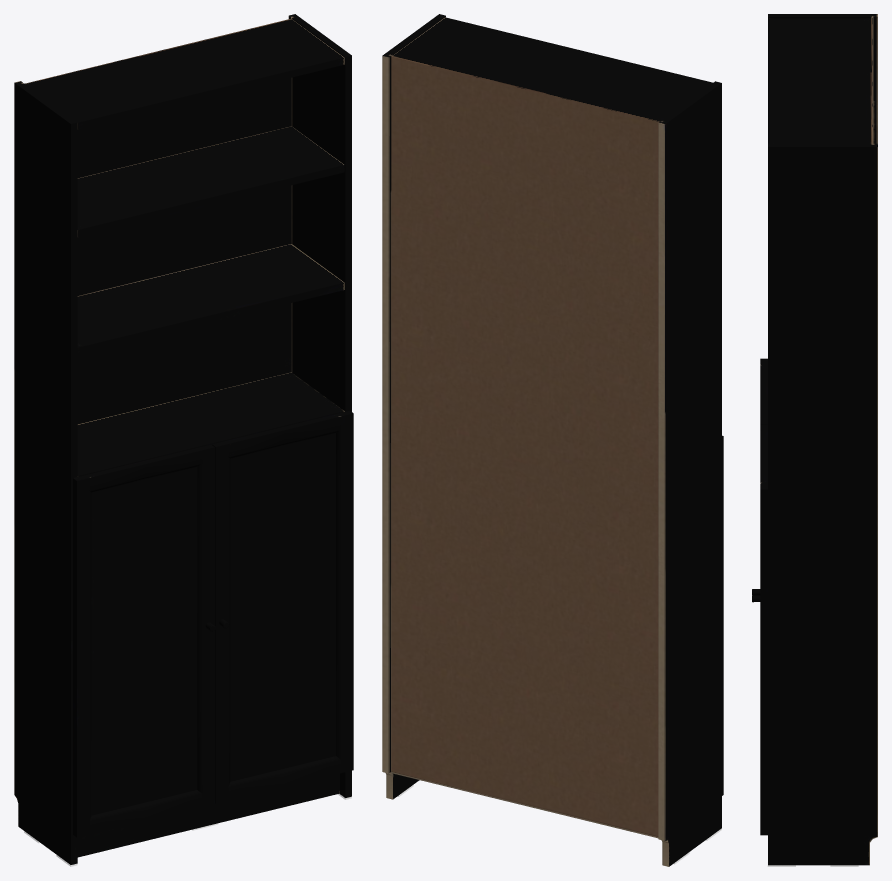
File: 35 - BILLY OXBERG Bookcase with doors - black oak effect 80x30x202 cm.glb
3 renders of one model, left to right at view 1: azimuth 30°, elevation 25°; view 2: azimuth 150°, elevation 25°; view 3: azimuth 270°, elevation 25°, orthographic. The views are drawn at different scales.
Visible parts, largest first — view 1: Mesh_0; view 2: Mesh_0; view 3: Mesh_0.
Part boxes in pixels (x1,y1,x2,y2): Mesh_0: (14, 14, 353, 864); Mesh_0: (382, 14, 723, 866); Mesh_0: (752, 14, 877, 865).
Bounding box in the file's own units: 0.8 × 2.02 × 0.32.
2 materials, 2 textured.
